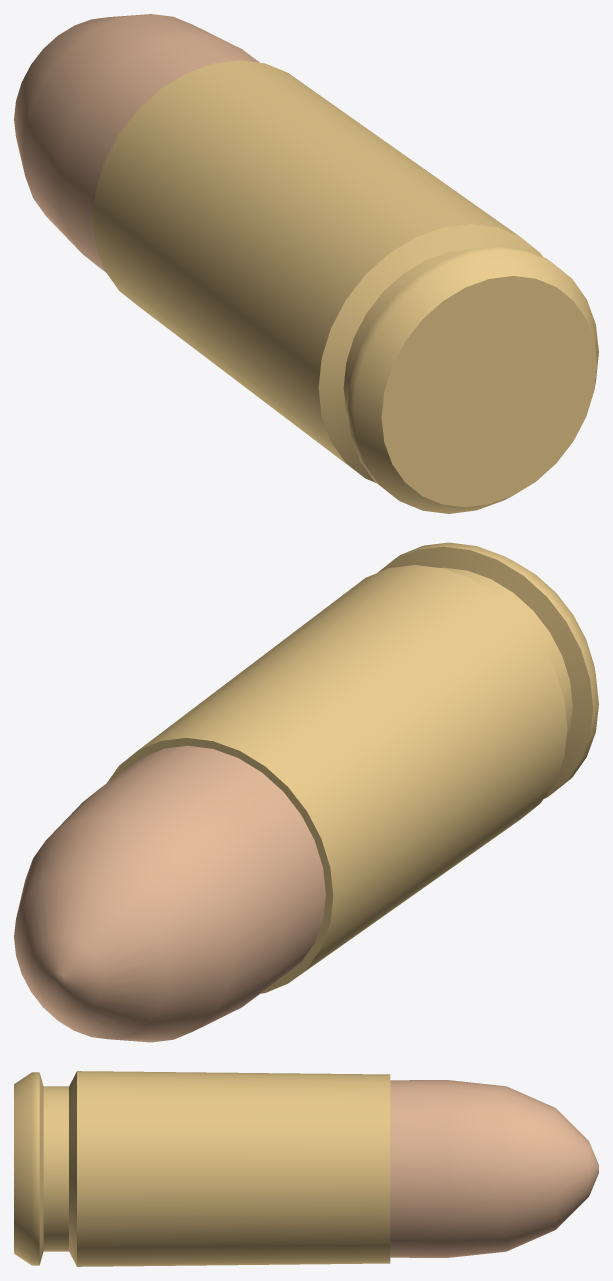
The model's file is round.fbx.
3 views of the same model, one above another, from view 1: azimuth 30°, elevation 25°; view 2: azimuth 150°, elevation 25°; view 3: azimuth 270°, elevation 25° (orthographic). The views are drawn at different scales.
Visible parts, largest first — view 1: weapon_round; view 2: weapon_round; view 3: weapon_round.
Part boxes in pixels (bbox=[...]): weapon_round: bbox=[14, 14, 598, 513]; weapon_round: bbox=[14, 542, 598, 1042]; weapon_round: bbox=[14, 1071, 598, 1266].
Size of the model in its own units: 0.994 by 0.994 by 2.97.
